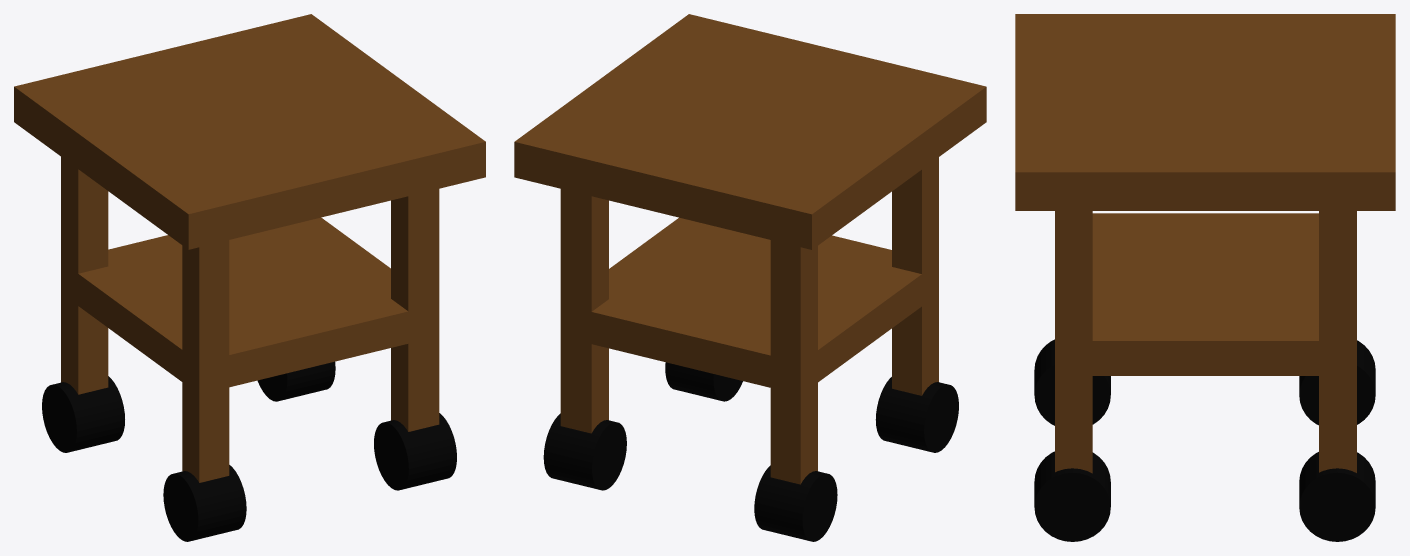
The model's file is VCRTable.fbx.
3 renders of one model, left to right at view 1: azimuth 30°, elevation 25°; view 2: azimuth 150°, elevation 25°; view 3: azimuth 270°, elevation 25°, orthographic. The views are drawn at different scales.
Visible parts, largest first — view 1: VCRTable, wheel3, wheel, wheel4, wheel2; view 2: VCRTable, wheel4, wheel2, wheel3, wheel; view 3: VCRTable, wheel, wheel2, wheel3, wheel4.
Part boxes in pixels (left/top/right/bottom): VCRTable: left=14, top=14, right=485, bottom=482; wheel3: left=163, top=465, right=246, bottom=541; wheel: left=374, top=413, right=456, bottom=490; wheel4: left=42, top=376, right=124, bottom=452; wheel2: left=257, top=361, right=335, bottom=401; VCRTable: left=514, top=14, right=986, bottom=484; wheel4: left=754, top=465, right=837, bottom=541; wheel2: left=543, top=413, right=626, bottom=490; wheel3: left=875, top=377, right=958, bottom=452; wheel: left=665, top=362, right=742, bottom=401; VCRTable: left=1015, top=14, right=1395, bottom=473; wheel: left=1034, top=451, right=1110, bottom=541; wheel2: left=1299, top=452, right=1375, bottom=541; wheel3: left=1034, top=339, right=1110, bottom=425; wheel4: left=1299, top=340, right=1375, bottom=425.
Bounding box in the file's own units: 248 × 278 × 252.
